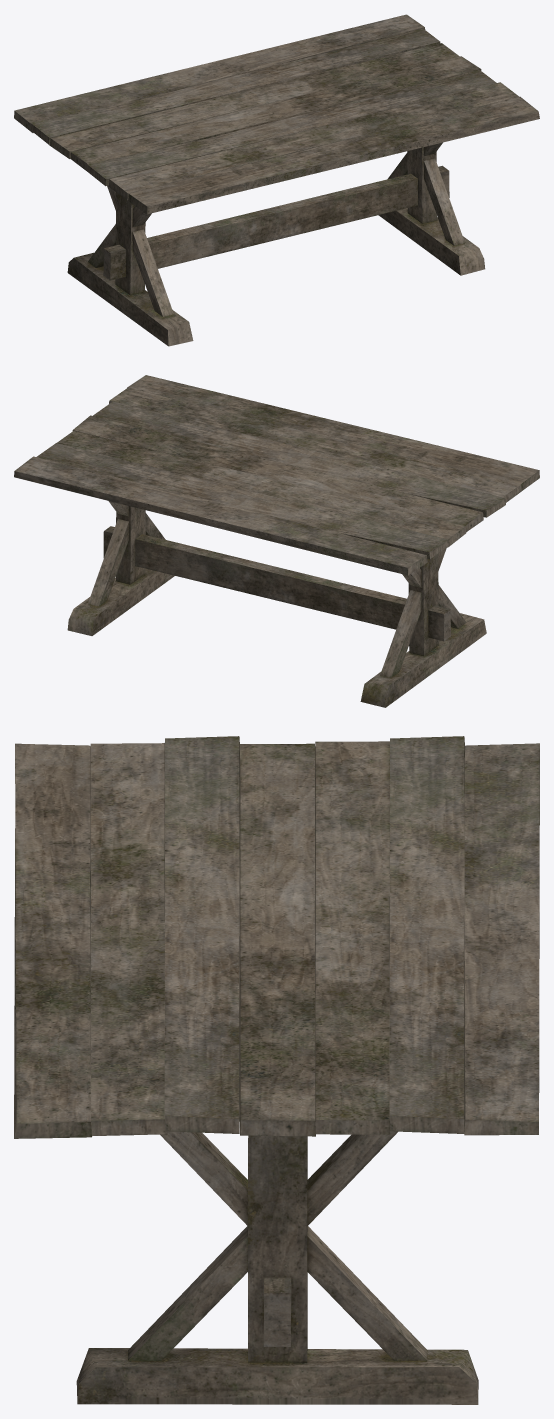
The model's file is Stol.fbx.
3 views of the same model, one above another, from view 1: azimuth 30°, elevation 25°; view 2: azimuth 150°, elevation 25°; view 3: azimuth 270°, elevation 25° (orthographic). The views are drawn at different scales.
Visible parts, largest first — view 1: Object_2.001; view 2: Object_2.001; view 3: Object_2.001.
Boxes of the visible parts, x1=… form: Object_2.001: x1=14, y1=14, x2=539, y2=346; Object_2.001: x1=14, y1=375, x2=539, y2=707; Object_2.001: x1=14, y1=736, x2=539, y2=1404.
Bounding box in the file's own units: 168 × 65.92 × 97.37.
Materials: 1 (1 with a texture image).
